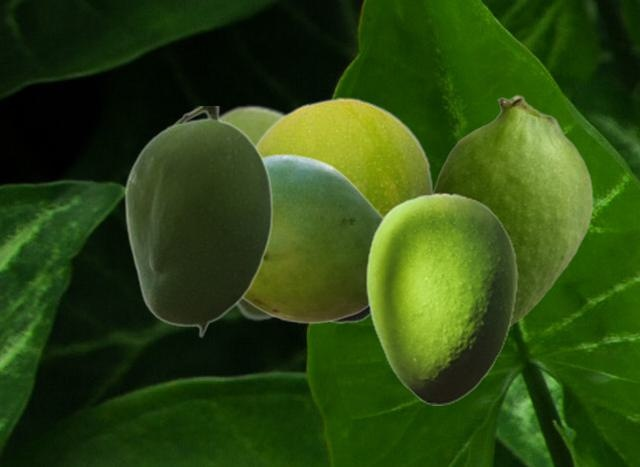green_mango: (256, 97, 433, 323), (434, 94, 592, 328), (123, 106, 272, 337), (365, 192, 517, 404), (244, 153, 382, 323), (220, 104, 286, 321)
